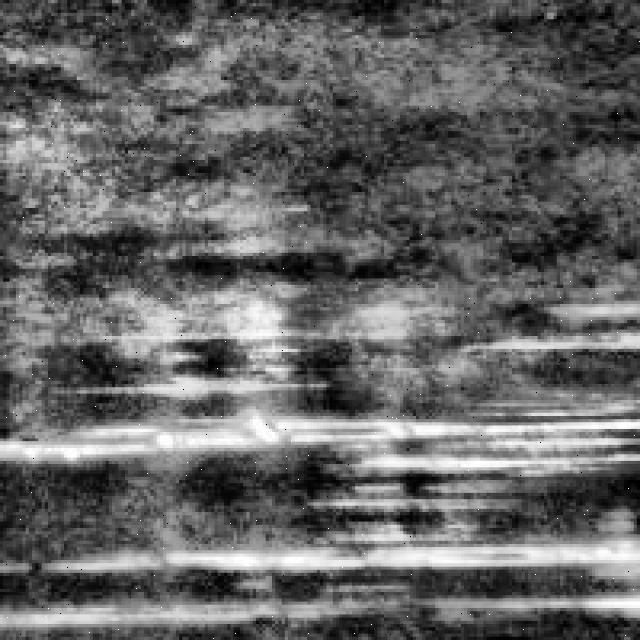Inclusion: (3, 381, 637, 480), (64, 528, 640, 618)
